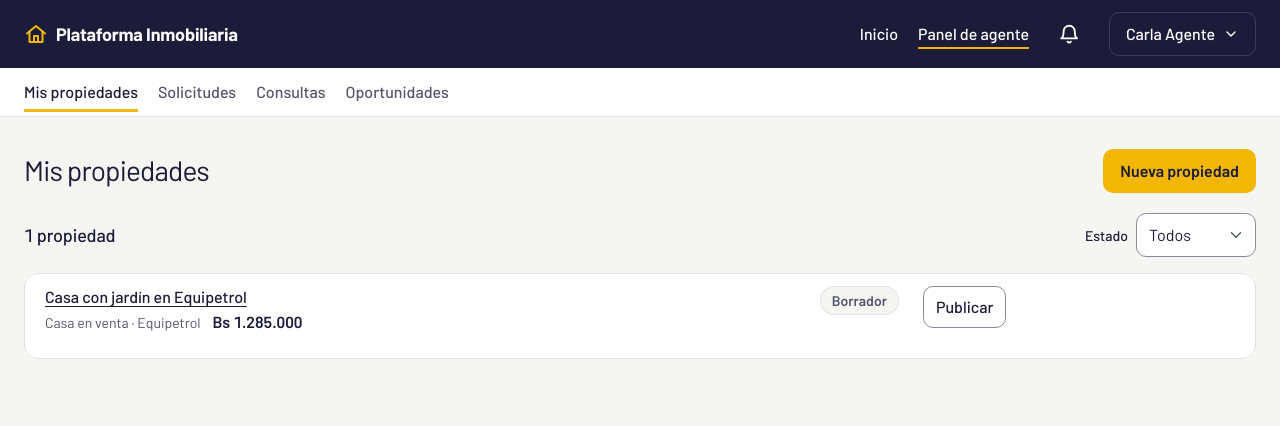
Test: AgentPropertiesPage › shows the problem+json detail when the transition fails
Step 1. Click the button "Publicar" → point(965, 307), box [923,286,1006,328]
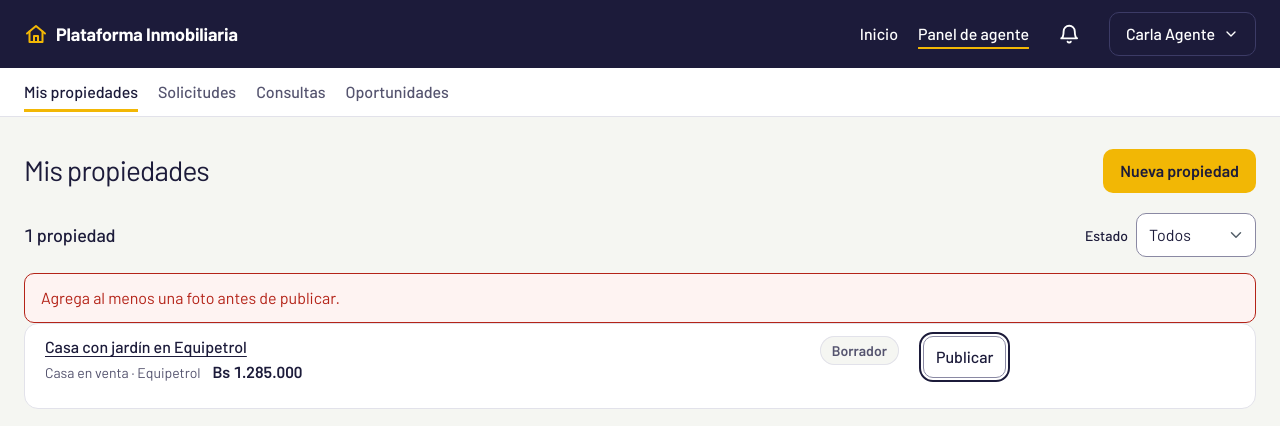
Result: the message "Agrega al menos una foto antes de publicar." is shown at [24,273,1256,323]
